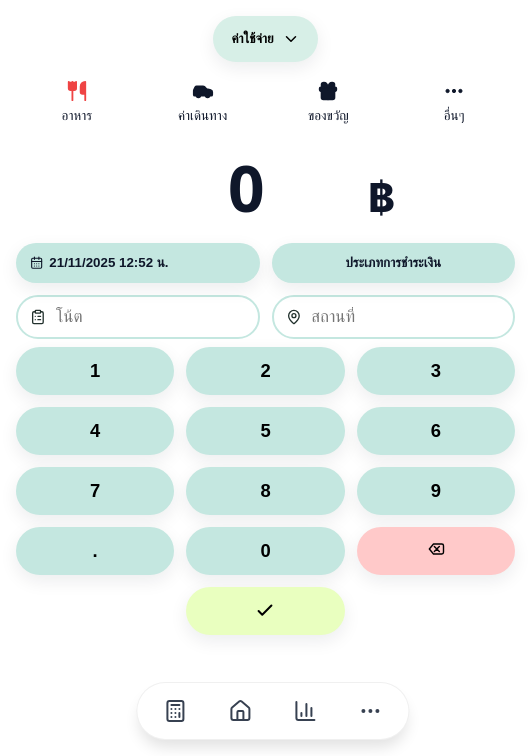
Test: Expense Component › Amount Input › should handle backspace correctly
This screenshot has width=532, height=756.
What coordinates should you click on to do the following:
click the button "1"
I would click on:
 (95, 371)
Its box is left=16, top=347, right=174, bottom=395.
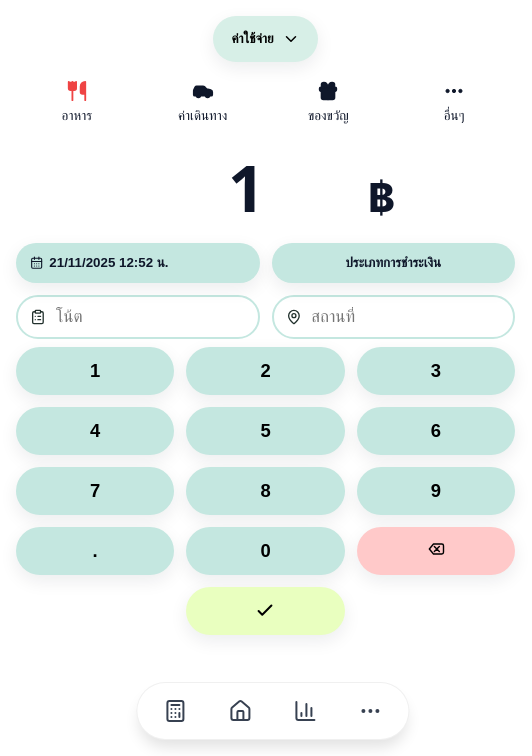
What coordinates should you click on to do the following:
click the button "2"
I would click on:
 (265, 371)
Its box is left=186, top=347, right=345, bottom=395.
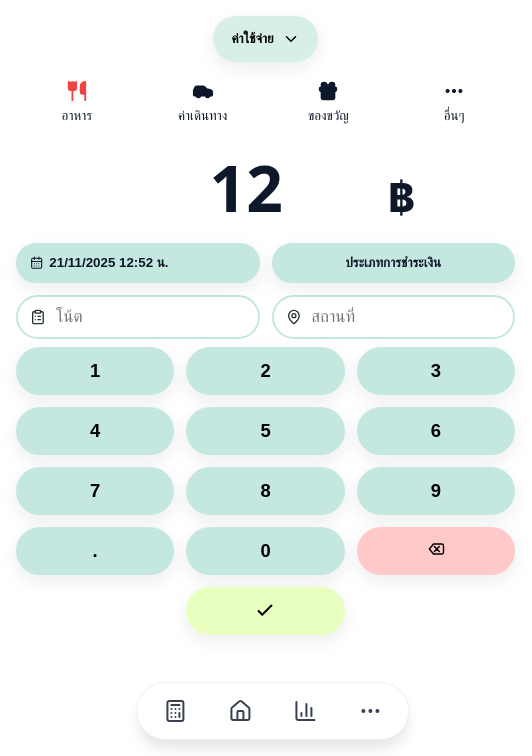
What coordinates should you click on to do the following:
click the button "3"
I would click on:
 (436, 371)
Its box is left=357, top=347, right=515, bottom=395.
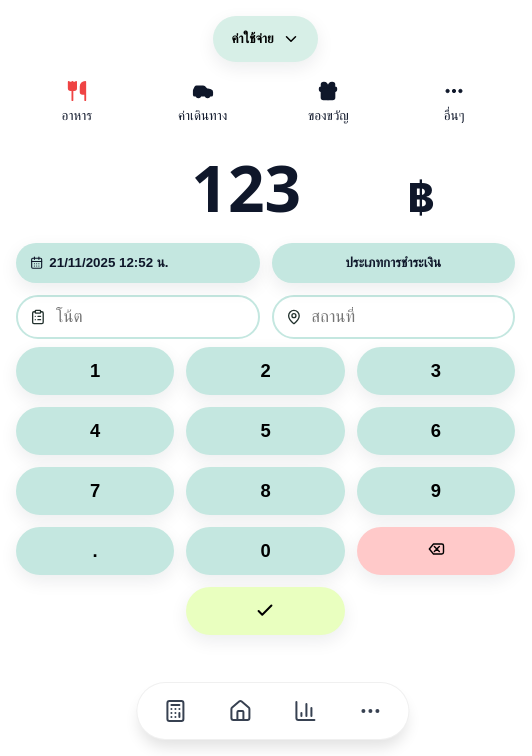
What coordinates should you click on to do the following:
click the 12th button with class "key"
I would click on:
 (436, 551)
Its box is left=357, top=527, right=515, bottom=575.
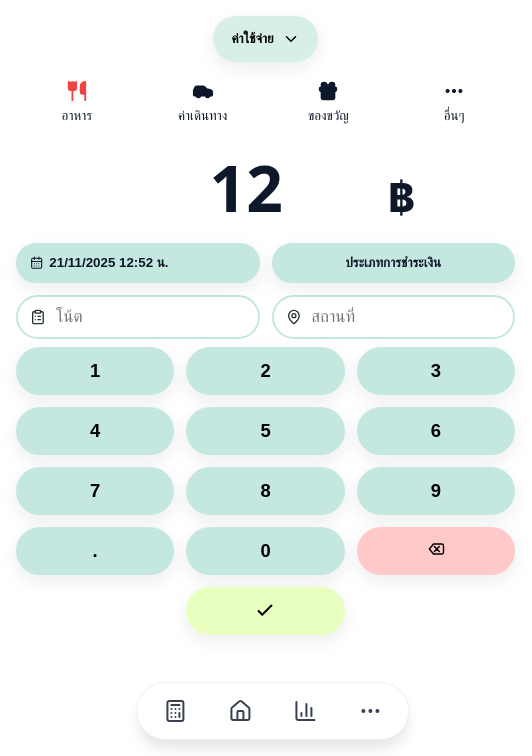
expect the field named "จำนวนเงิน" holds "12": met, box left=116, top=144, right=376, bottom=231
